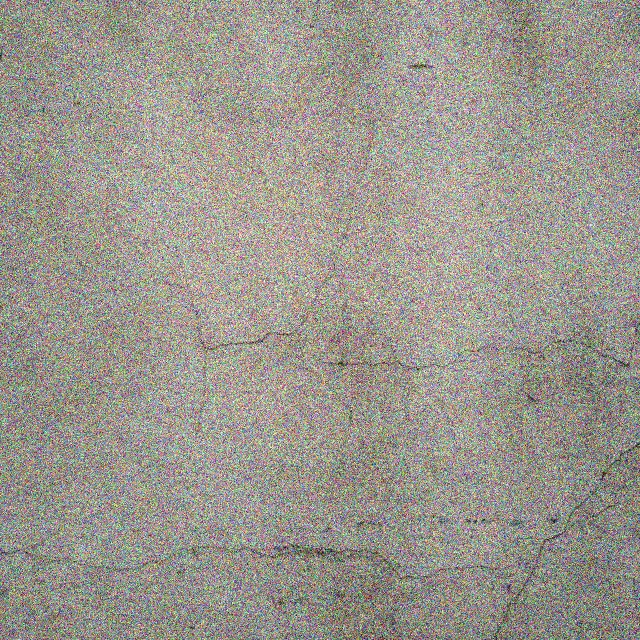SurfaceCrack: (0, 512, 626, 597)
